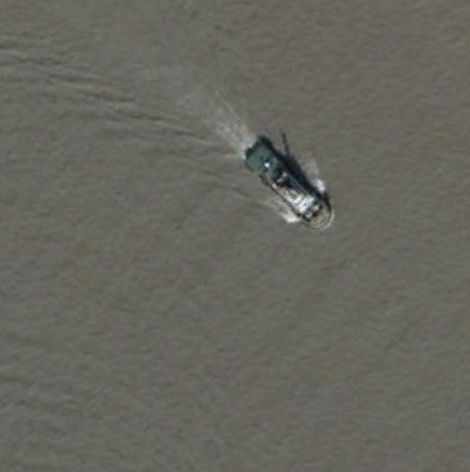boat: (242, 137, 336, 233)
